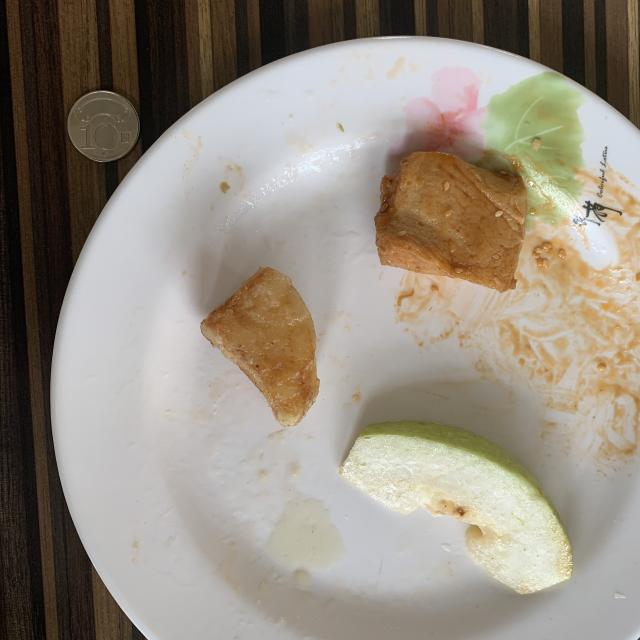coin: (68, 91, 140, 162)
creamy tofu: (375, 151, 528, 291)
fried potato: (200, 268, 319, 426)
guava -sliced-: (340, 421, 572, 594)
